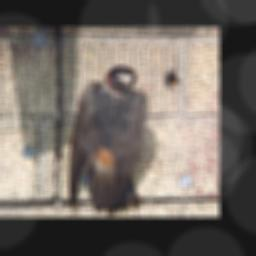Swallow: (66, 65, 148, 215)
